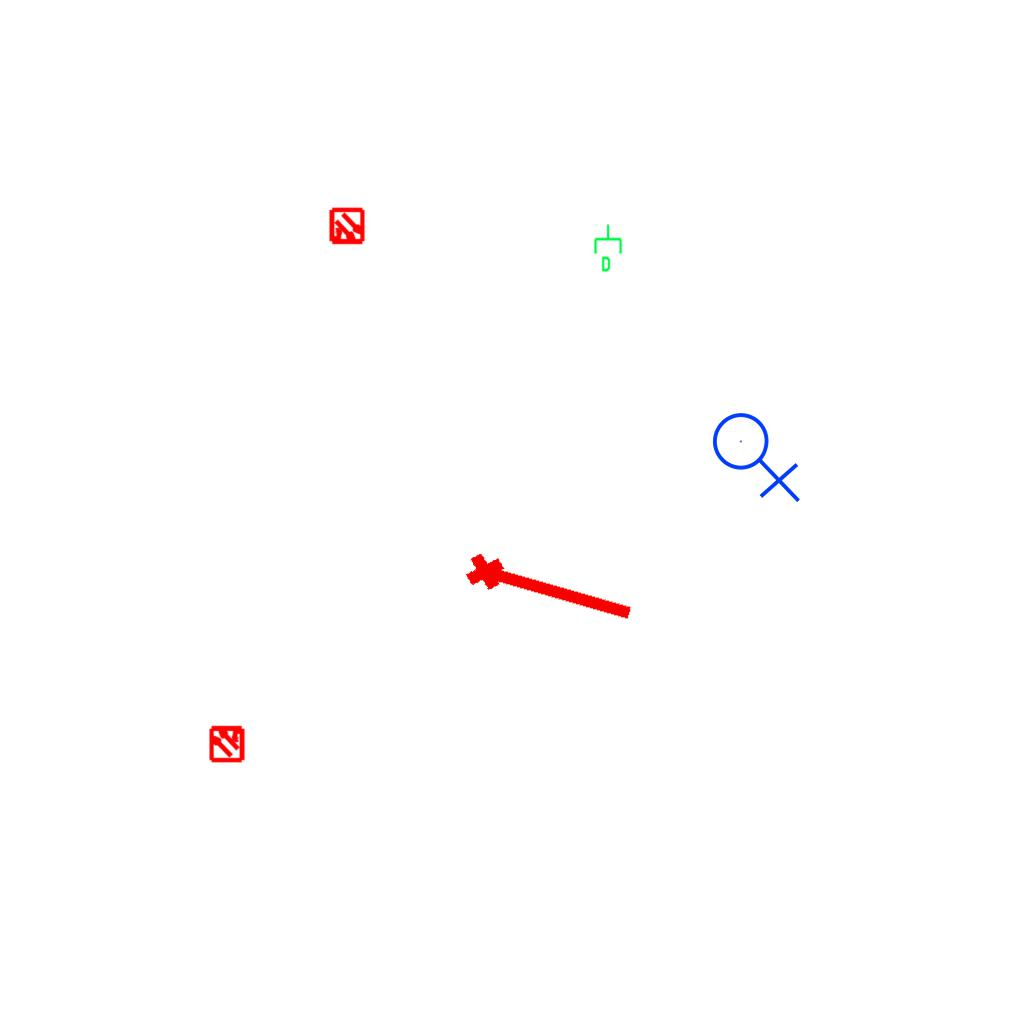ASR_Ansaugoeffnung: (460, 541, 642, 635)
Datenanschluss_einfach: (592, 223, 626, 273)
Elektroanschluss_allgemein_230V_Geraeteanschlussdose_230V: (711, 404, 805, 503)
OT_Multisensormelder_(Kombination_RMO_WMD): (319, 199, 375, 255), (199, 715, 255, 771)
